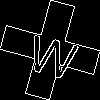W: (25, 25, 82, 81)
